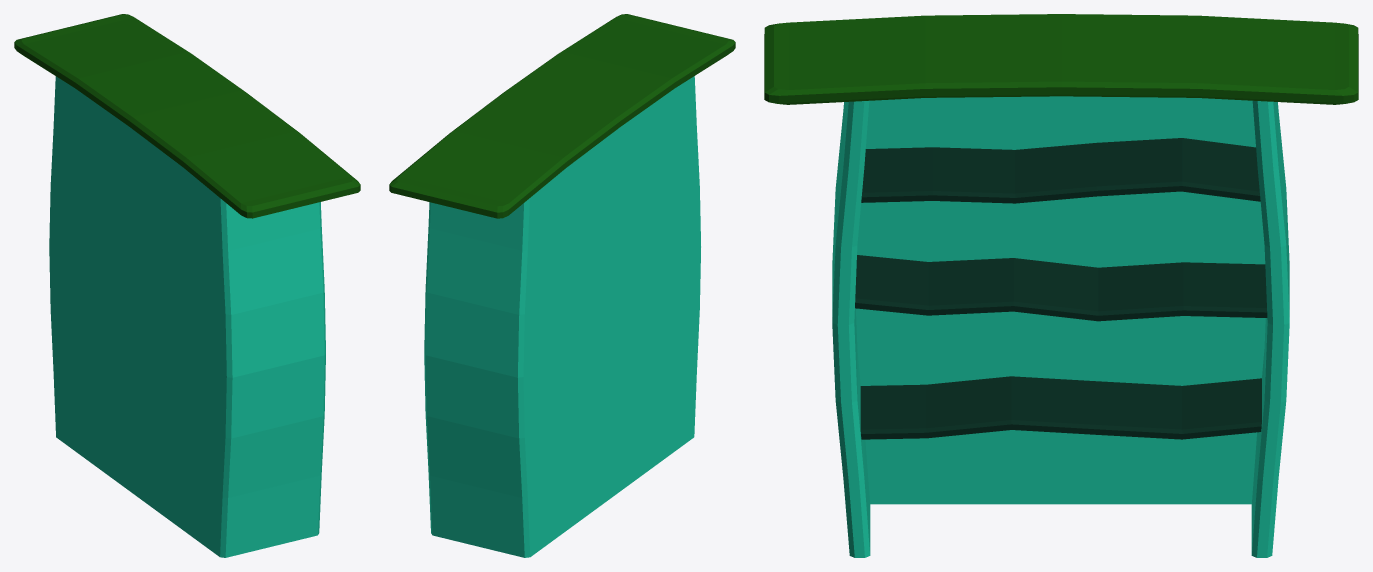
The model's file is MESH_CounterShelf.fbx.
3 views of the same model, side by side, from view 1: azimuth 30°, elevation 25°; view 2: azimuth 150°, elevation 25°; view 3: azimuth 270°, elevation 25° (orthographic). The views are drawn at different scales.
Parts seen in each view (by area): view 1: MESH_CounterShelf; view 2: MESH_CounterShelf; view 3: MESH_CounterShelf.
Part boxes in pixels (<box>): MESH_CounterShelf: <box>14,14,360,557</box>; MESH_CounterShelf: <box>389,14,735,557</box>; MESH_CounterShelf: <box>764,14,1358,557</box>.
Bounding box in the file's own units: 0.4253 × 1.33 × 1.49.
